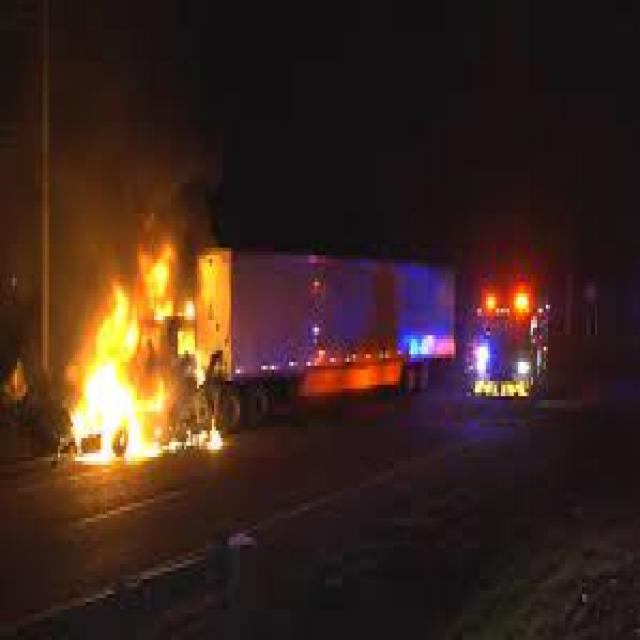fire: (62, 248, 195, 464), (182, 426, 229, 464)
